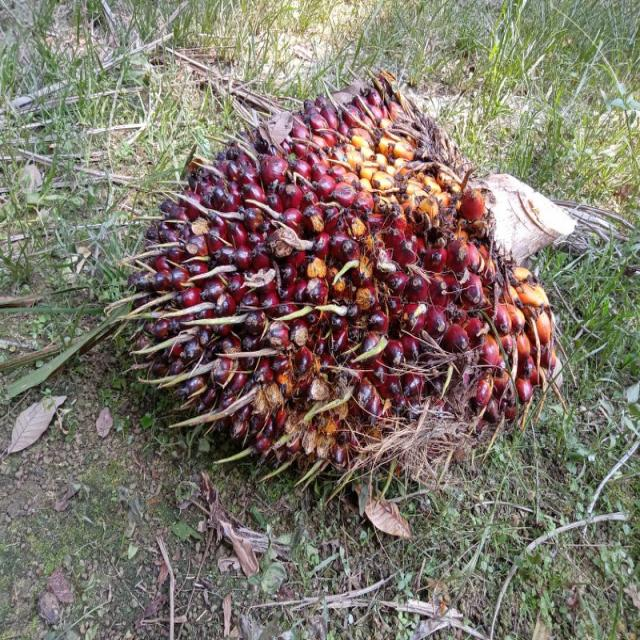fraksi 1: (123, 97, 559, 473)
